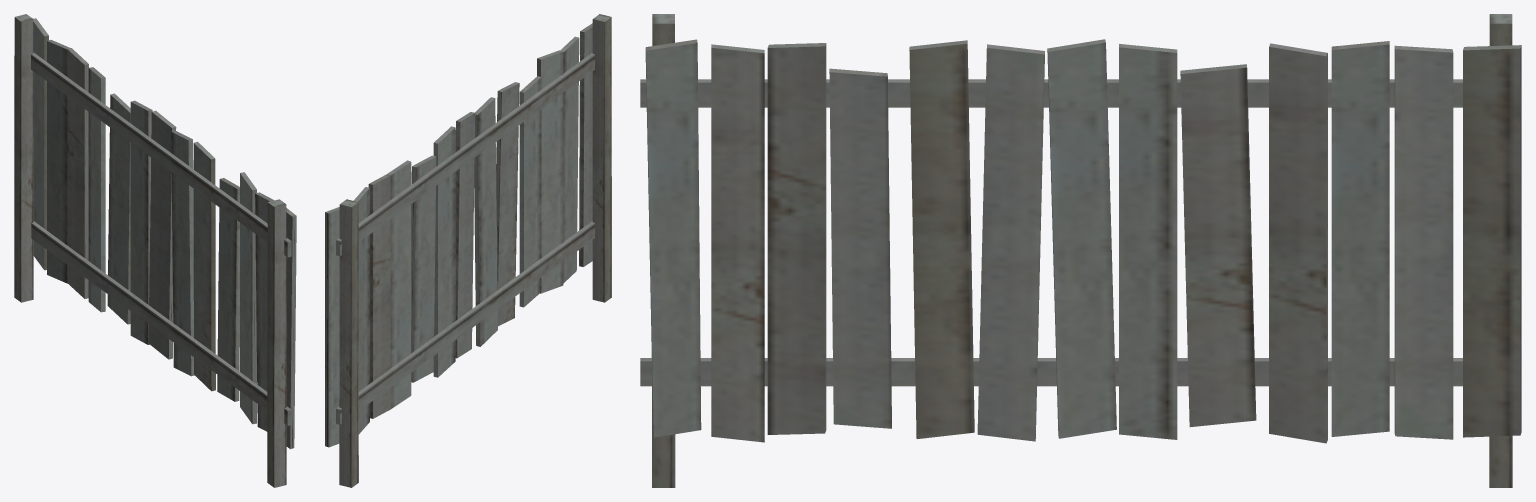
File: MiniBR_Fence002.fbx
The picture shows the model from 3 angles, left to right: view 1: azimuth 30°, elevation 25°; view 2: azimuth 150°, elevation 25°; view 3: azimuth 270°, elevation 25°; orthographic projection. The views are drawn at different scales.
Parts seen in each view (by area): view 1: MiniBR_Fence002; view 2: MiniBR_Fence002; view 3: MiniBR_Fence002.
Part boxes in pixels (box(x1,y1,x2,y2)): MiniBR_Fence002: box(14, 14, 296, 487); MiniBR_Fence002: box(325, 14, 611, 487); MiniBR_Fence002: box(640, 14, 1521, 487).
Bounding box in the file's own units: 21.13 × 400 × 232.
Materials: 1 (1 with a texture image).
